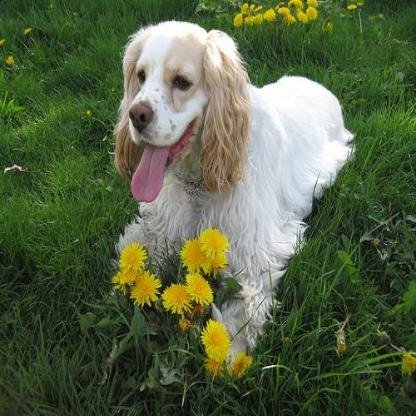cocker_spaniel: (108, 9, 355, 366)
